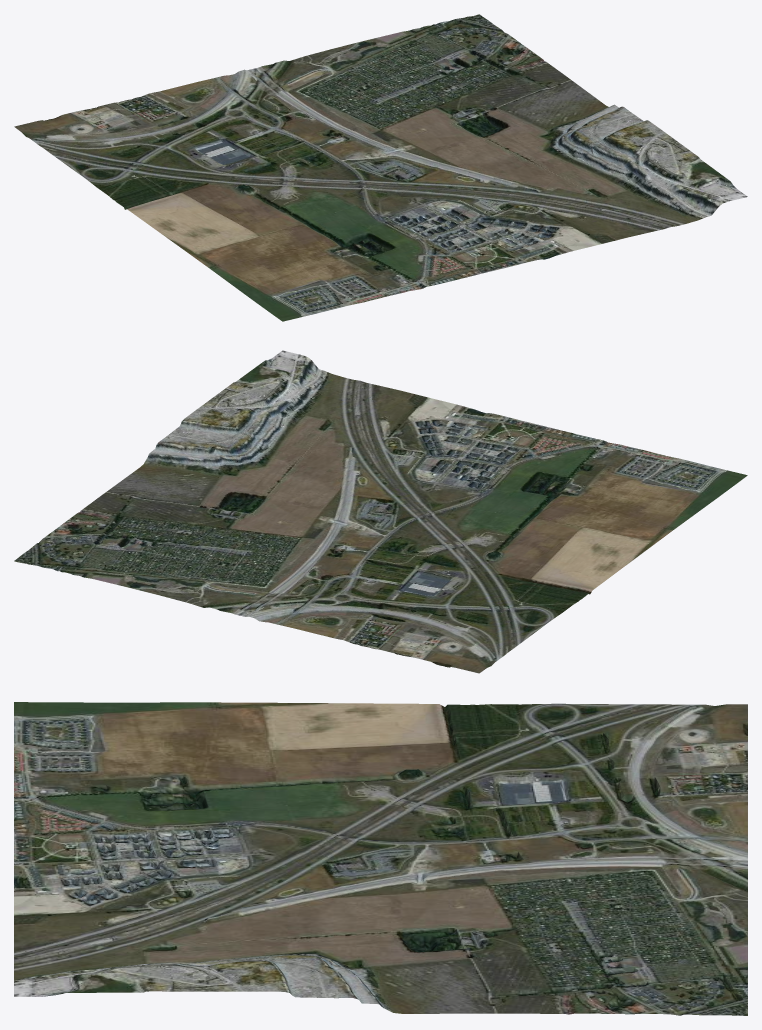
The model's file is map_10_248_423.dae.
3 renders of one model, top to bottom at view 1: azimuth 30°, elevation 25°; view 2: azimuth 150°, elevation 25°; view 3: azimuth 270°, elevation 25°, orthographic. The views are drawn at different scales.
Visible parts, largest first — view 1: Ter0; view 2: Ter0; view 3: Ter0.
Boxes of the visible parts, box(x1,y1,x2,y2) form: Ter0: box(14, 14, 747, 321); Ter0: box(14, 350, 747, 673); Ter0: box(14, 702, 747, 1015).
Size of the model in its own units: 2044 by 2044 by 92.81.
3 materials, 3 textured.
